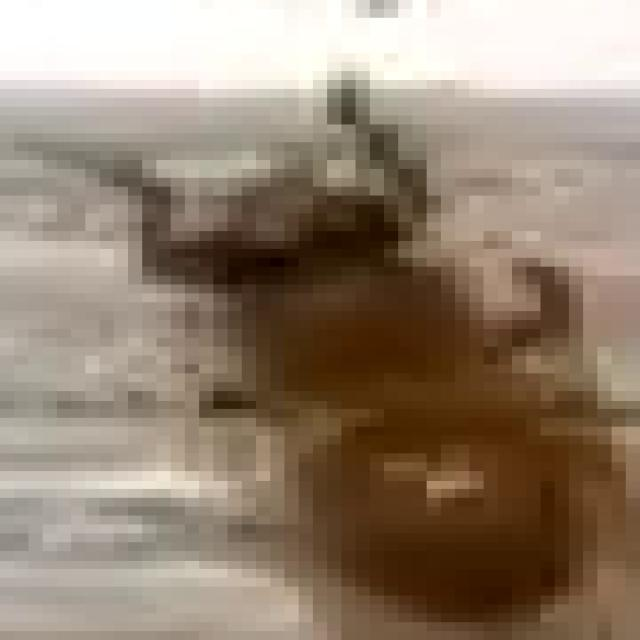honeybee: (42, 78, 639, 640)
